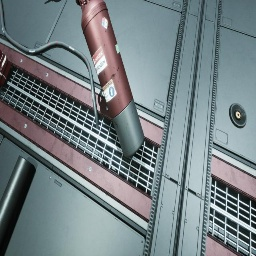FirstAidBox ,: (0, 49, 12, 86)
NitrogenTank ,: (75, 0, 144, 158)
